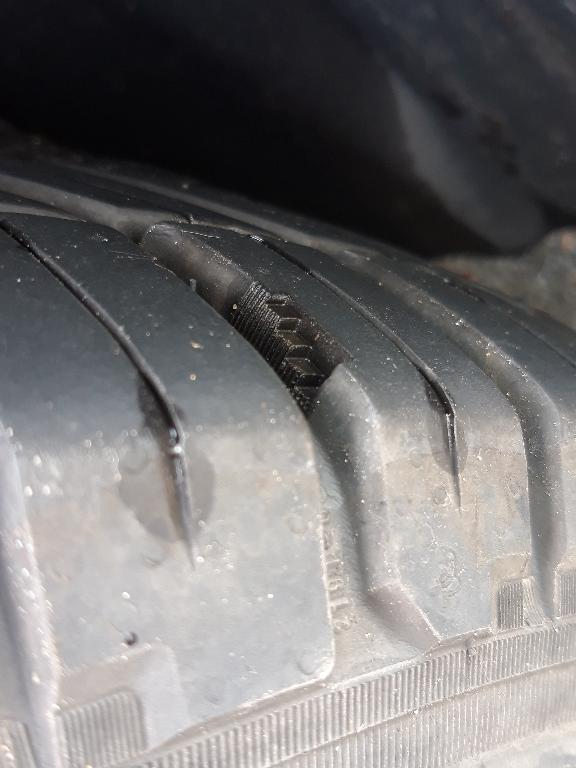temoin:90: (226, 275, 360, 426)
